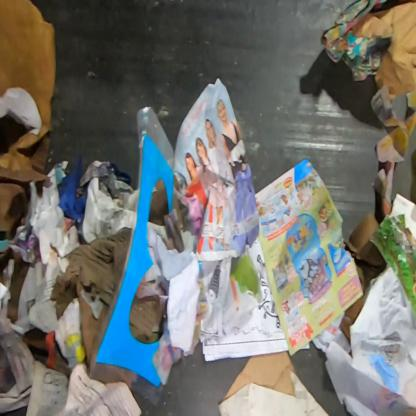cardboard: (0, 0, 57, 242), (50, 228, 129, 370), (216, 351, 332, 415), (351, 0, 415, 97), (0, 247, 34, 324), (130, 294, 162, 344), (148, 179, 169, 226), (22, 328, 48, 350)
soft_plastic: (88, 106, 175, 408)
